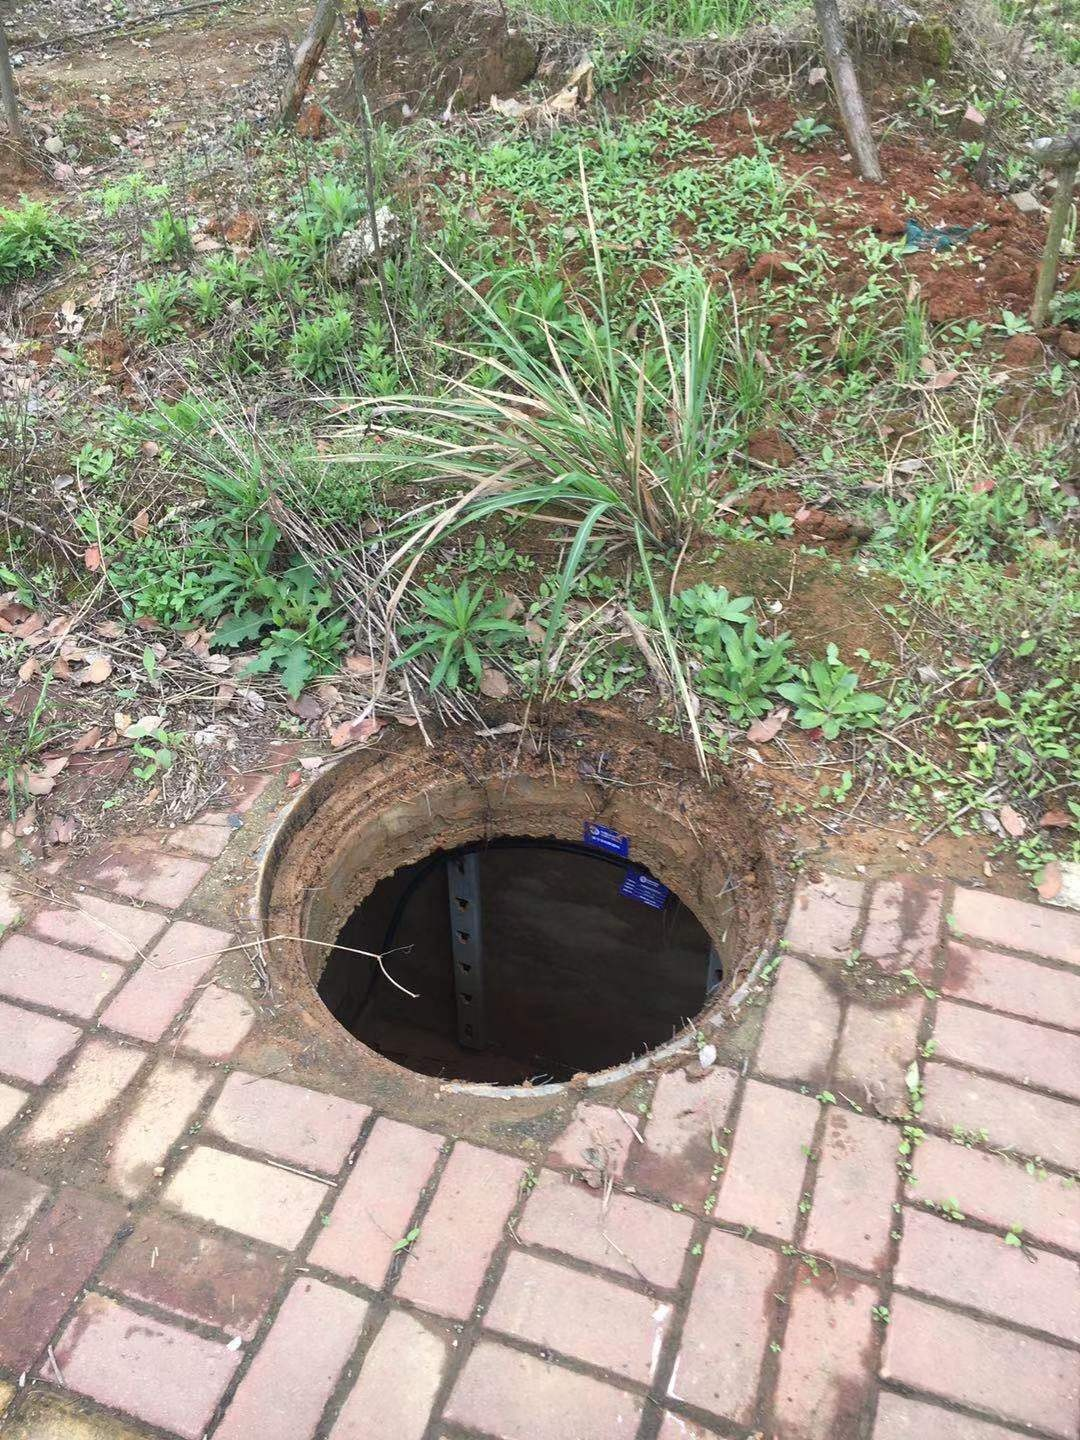lose: (258, 696, 792, 1096)
